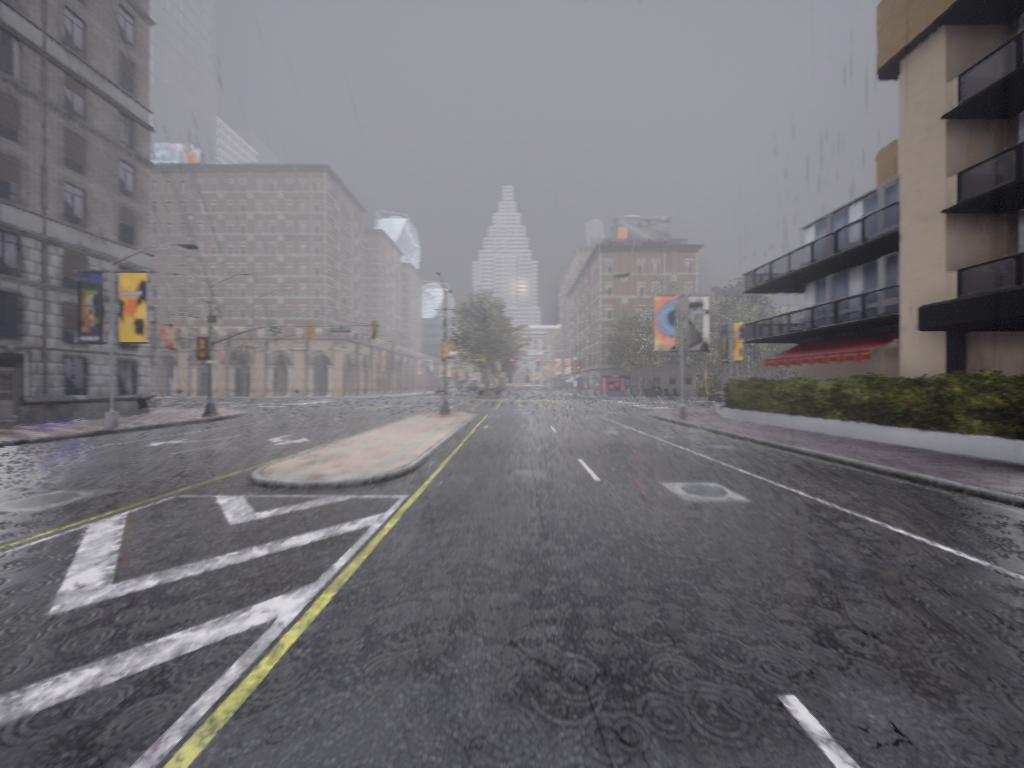traffic_light: (198, 339, 211, 362), (371, 319, 381, 340), (305, 321, 313, 344), (441, 343, 448, 363), (510, 358, 516, 371), (578, 365, 582, 379), (537, 358, 541, 371)
